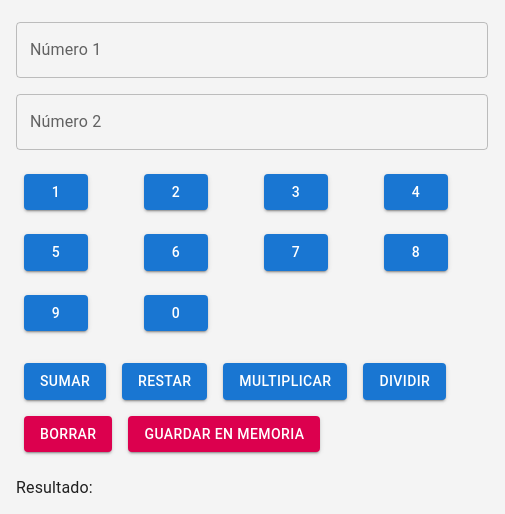
it: Calculator › should subtract numbers correctly
Step 1. Click the field named "input1" → (252, 50), box x1=16 y1=22 x2=488 y2=78
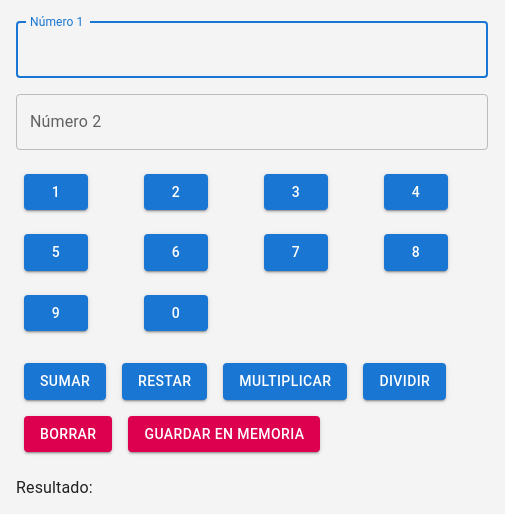
Step 2. Click the button "5" → (56, 253), box x1=24 y1=234 x2=88 y2=271
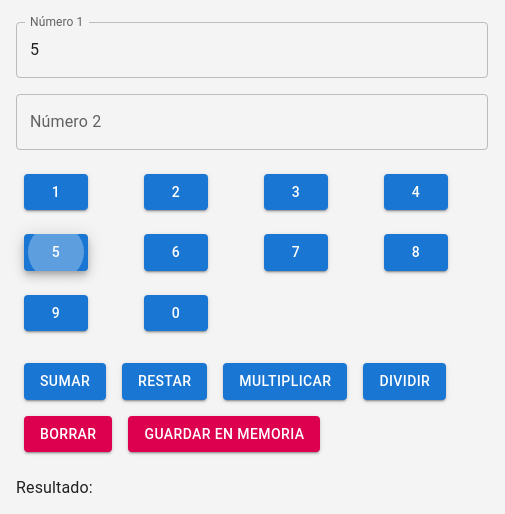
Step 3. Click the field named "input2" → (252, 122), box x1=16 y1=94 x2=488 y2=150
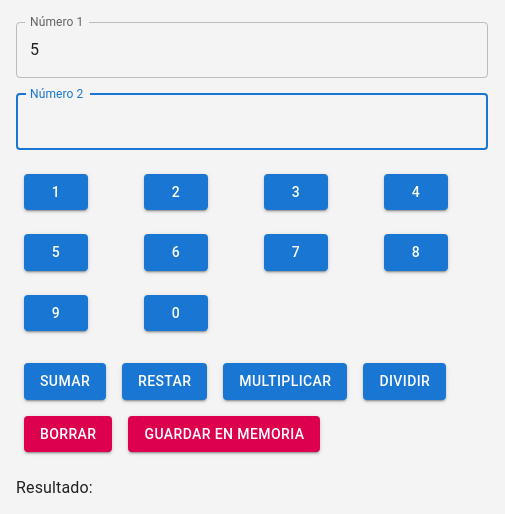
Step 4. Click the button "3" → (296, 193), box x1=264 y1=174 x2=328 y2=211
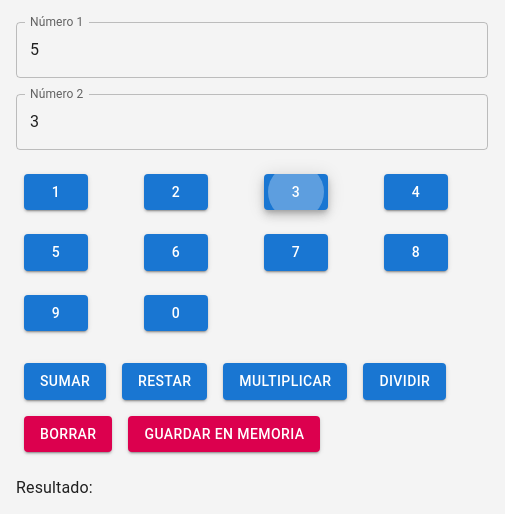
Step 5. Click the button "Restar" → (165, 382), box x1=122 y1=363 x2=207 y2=400
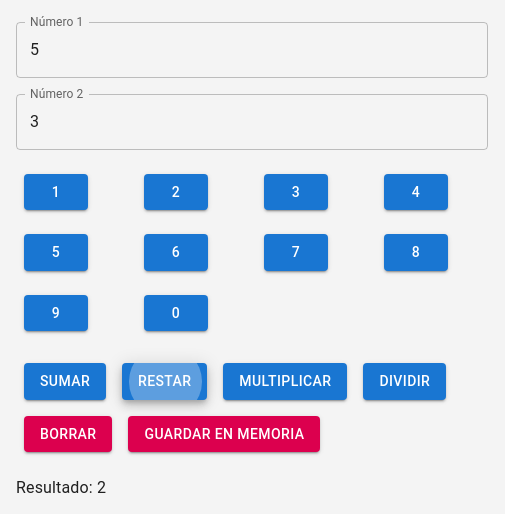
Check: the text "Resultado: 2" is shown, box x1=16 y1=478 x2=106 y2=497
